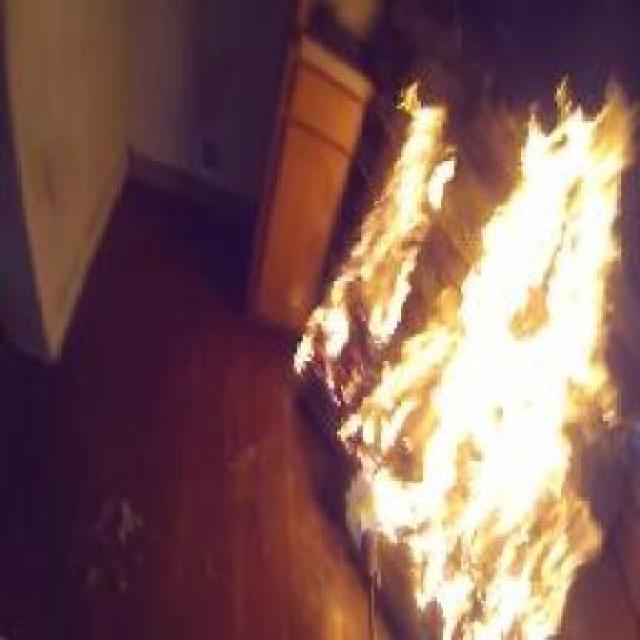smoke: (287, 18, 640, 639)
